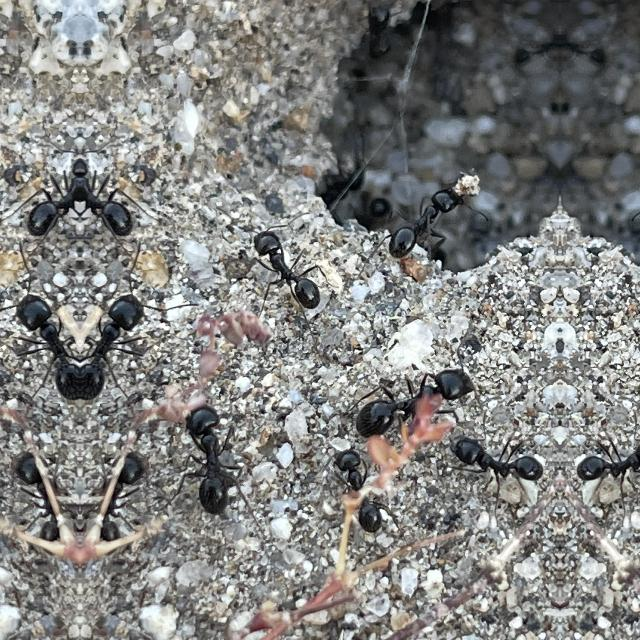Messor: (349, 351, 471, 442), (436, 403, 546, 503), (176, 398, 256, 528), (376, 181, 490, 271), (5, 432, 80, 566), (80, 432, 154, 566), (319, 437, 397, 547), (82, 274, 152, 396), (8, 274, 78, 396), (240, 226, 328, 314), (574, 403, 640, 503), (5, 170, 80, 247), (80, 170, 154, 247)
